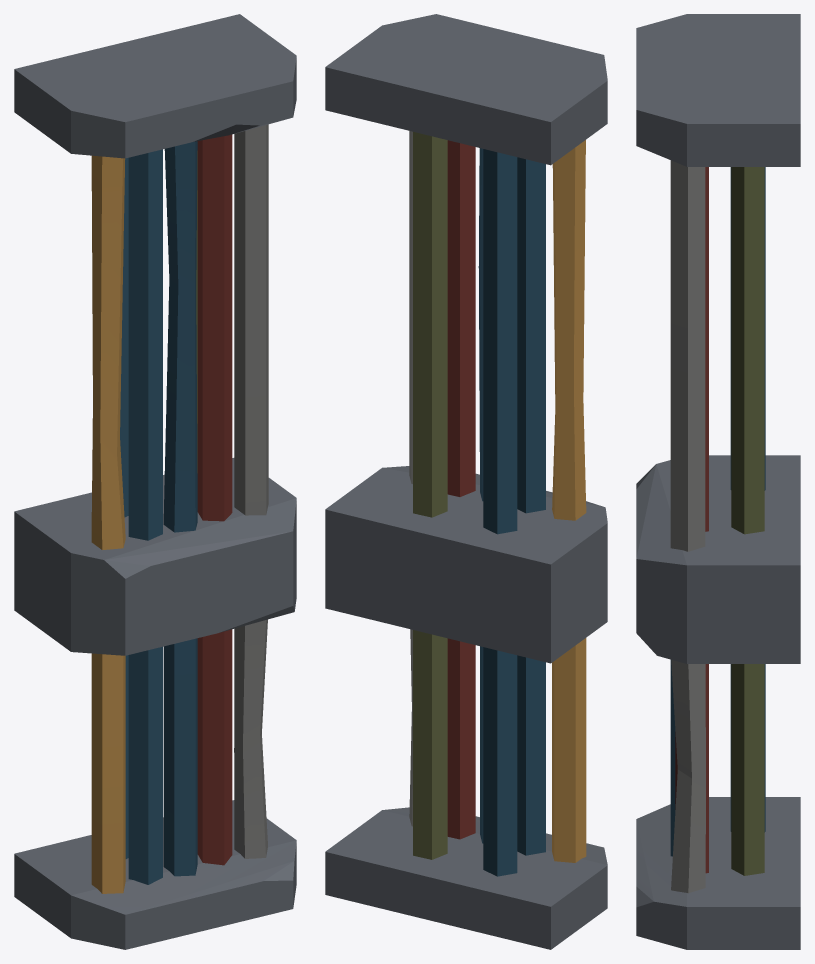
The model's file is SM_Prop_Pipes_01.obj.
3 renders of one model, left to right at view 1: azimuth 30°, elevation 25°; view 2: azimuth 150°, elevation 25°; view 3: azimuth 270°, elevation 25°, orthographic.
Parts seen in each view (by area): view 1: SM_Prop_Pipes_01_0; view 2: SM_Prop_Pipes_01_0; view 3: SM_Prop_Pipes_01_0.
Boxes of the visible parts, x1,y1,x2,y2 form: SM_Prop_Pipes_01_0: (14,14,296,949); SM_Prop_Pipes_01_0: (325,14,607,949); SM_Prop_Pipes_01_0: (636,14,800,949).
Size of the model in its own units: 0.8562 by 3 by 0.5404.
1 material, 1 textured.
